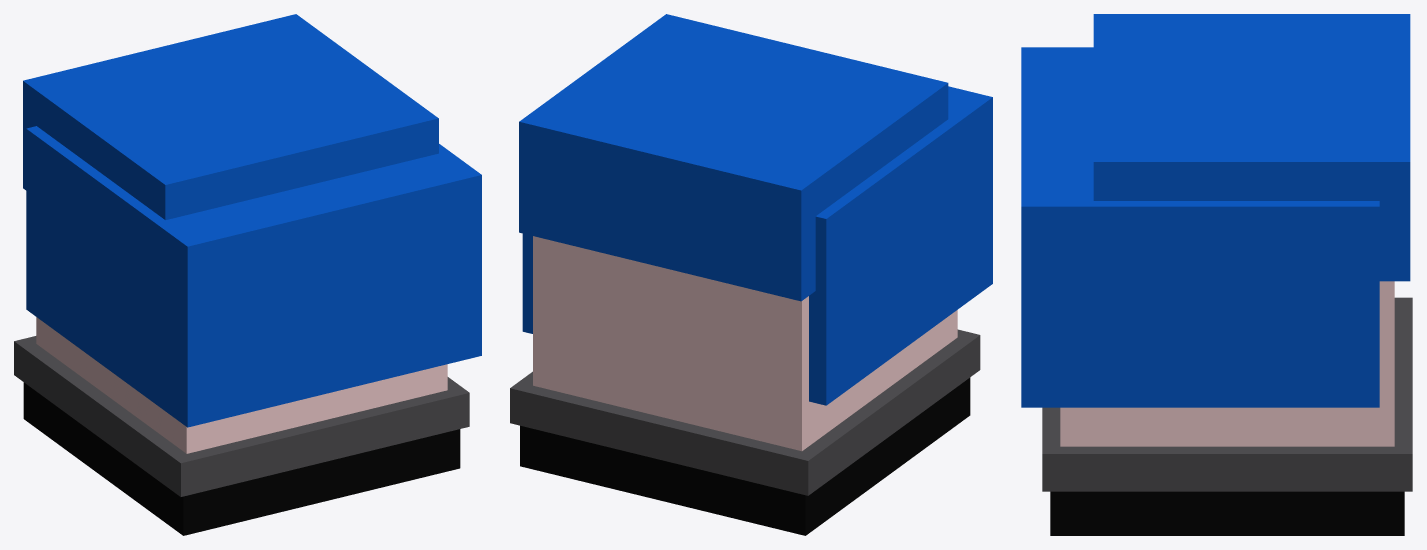
The model's file is Man4.fbx.
The picture shows the model from 3 angles, left to right: view 1: azimuth 30°, elevation 25°; view 2: azimuth 150°, elevation 25°; view 3: azimuth 270°, elevation 25°; orthographic projection. The views are drawn at different scales.
Visible parts, largest first — view 1: Cube.047; view 2: Cube.047; view 3: Cube.047.
Boxes of the visible parts, x1=… form: Cube.047: x1=14, y1=14, x2=481, y2=535; Cube.047: x1=510, y1=14, x2=992, y2=535; Cube.047: x1=1021, y1=14, x2=1412, y2=535.
Bounding box in the file's own units: 226 × 246 × 234.
